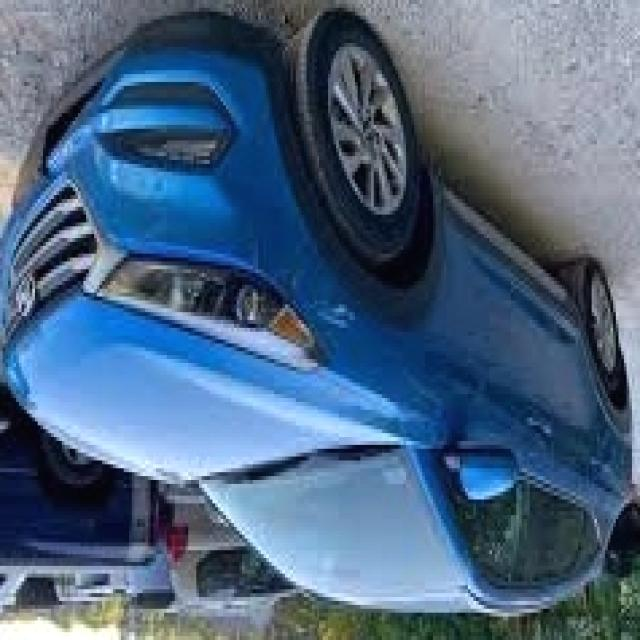blue: (0, 7, 636, 621)
